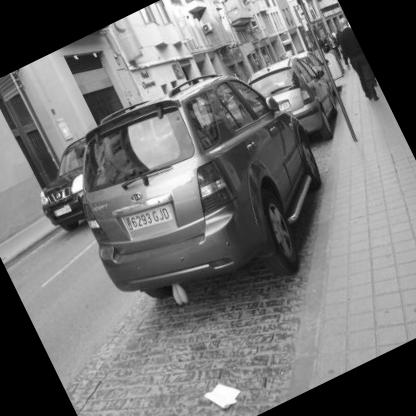car: (42, 36, 365, 356), (237, 40, 355, 162)
